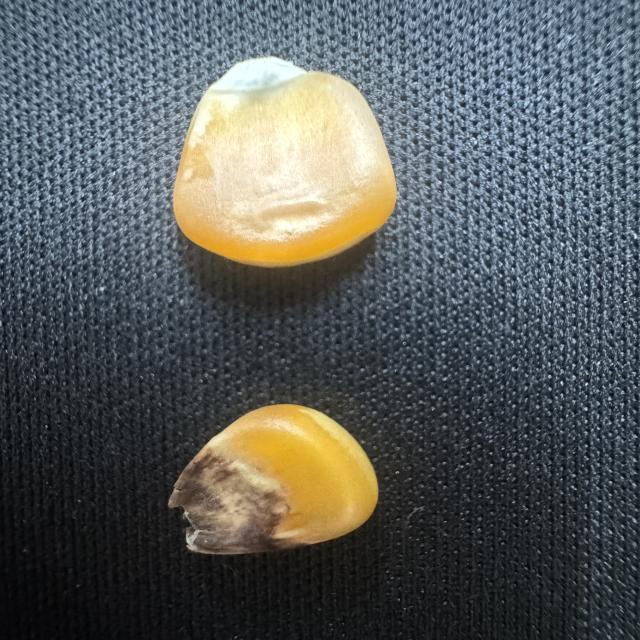Bad-Seed: (168, 392, 382, 587)
Good-Seed: (157, 56, 404, 280)
